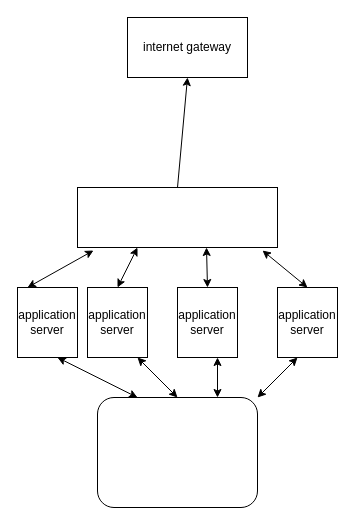
This 355x525 diagram has some shape labels left out. Each missing label, with the box of its shape:
data base: (96, 396, 258, 508)
load balancer: (76, 186, 278, 248)
